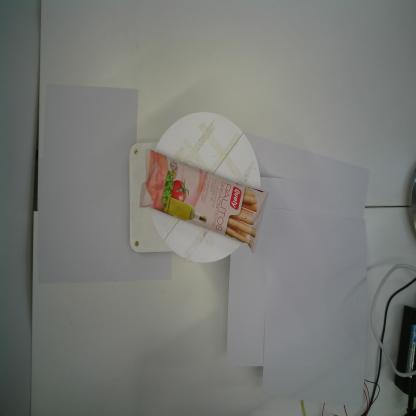Dessert: (139, 148, 269, 254)
